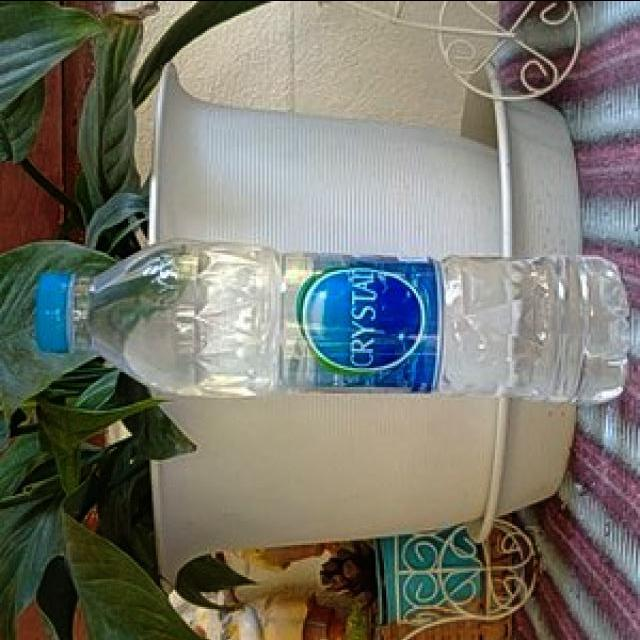cap: (36, 266, 74, 354)
label: (275, 252, 442, 392)
not-crumbled: (17, 238, 634, 406)
